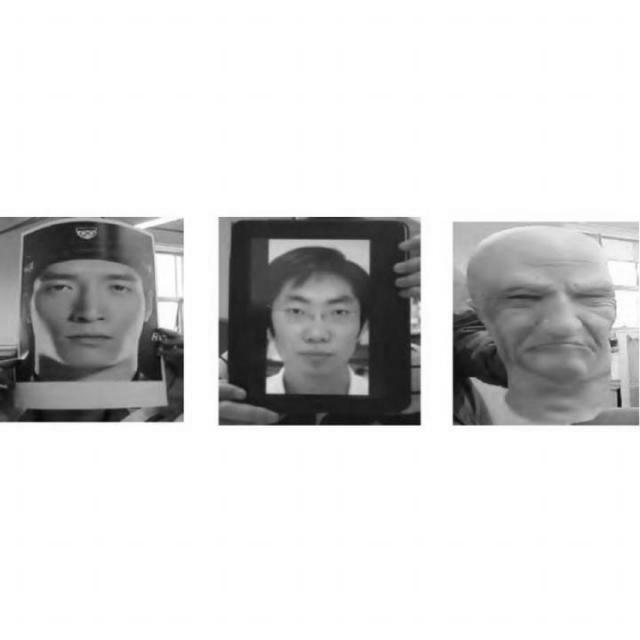fake: (231, 218, 412, 417), (17, 218, 174, 417)
